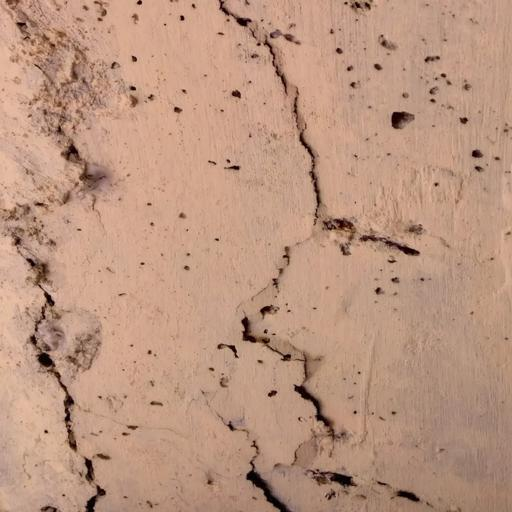major_crack: (212, 0, 440, 512), (0, 216, 139, 510)
